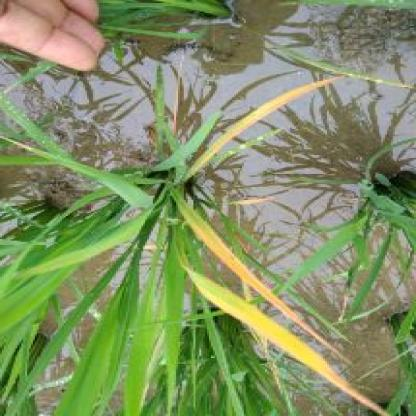Tungro: (178, 76, 342, 176)
